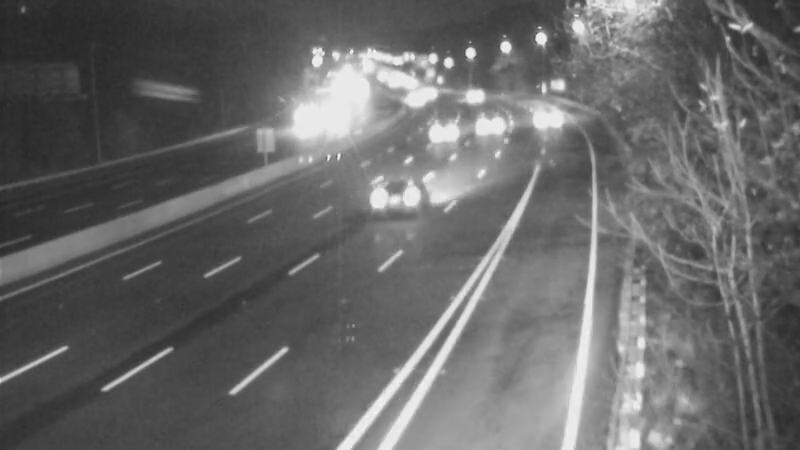vehicle: (376, 154, 456, 234), (447, 71, 497, 121), (381, 75, 431, 125), (522, 90, 572, 140), (471, 92, 521, 142), (416, 101, 466, 151), (280, 100, 330, 150), (310, 91, 360, 141)
